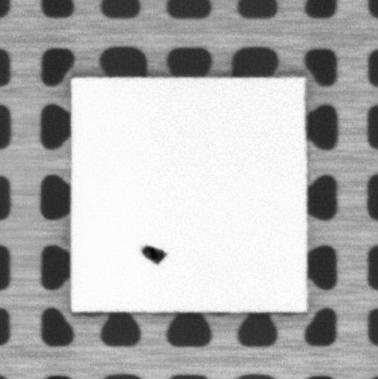DIE_INK: (139, 244, 167, 265)
